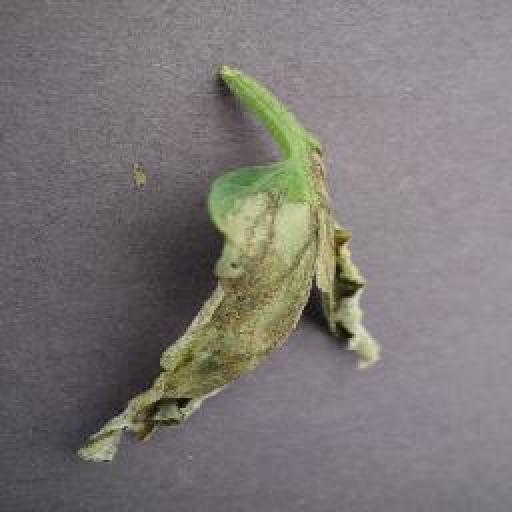disease_tomato: (74, 135, 382, 468)
